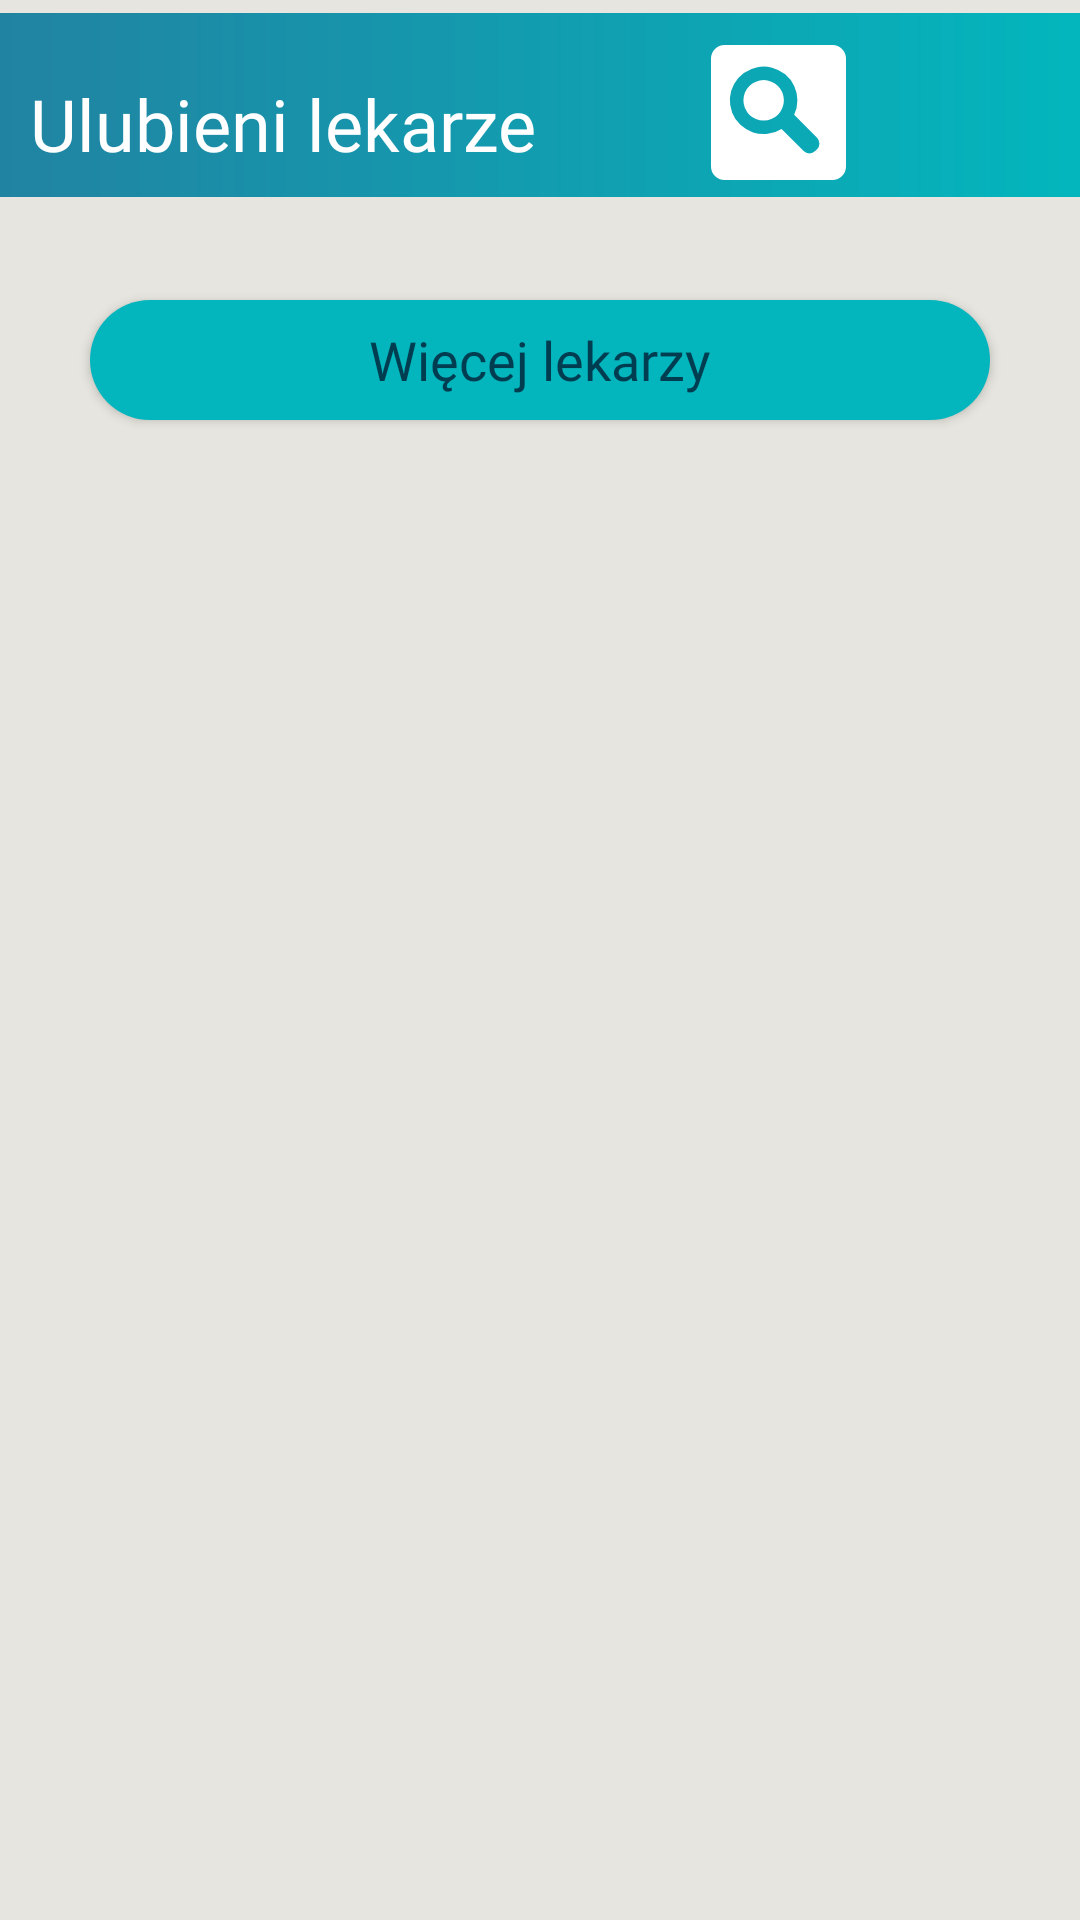

Icon click points for this 1080×1920 phone screenshot, format (x=x, y=y):
wyszukiwanie: (x=778, y=112)
